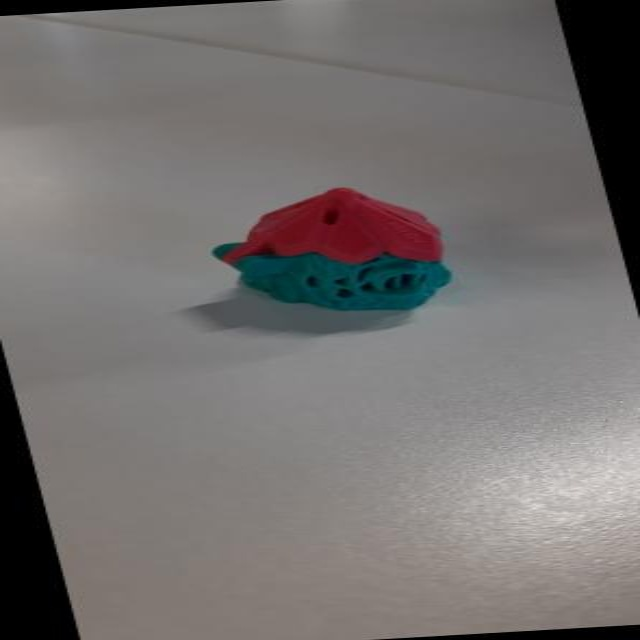House: (196, 179, 470, 325)
